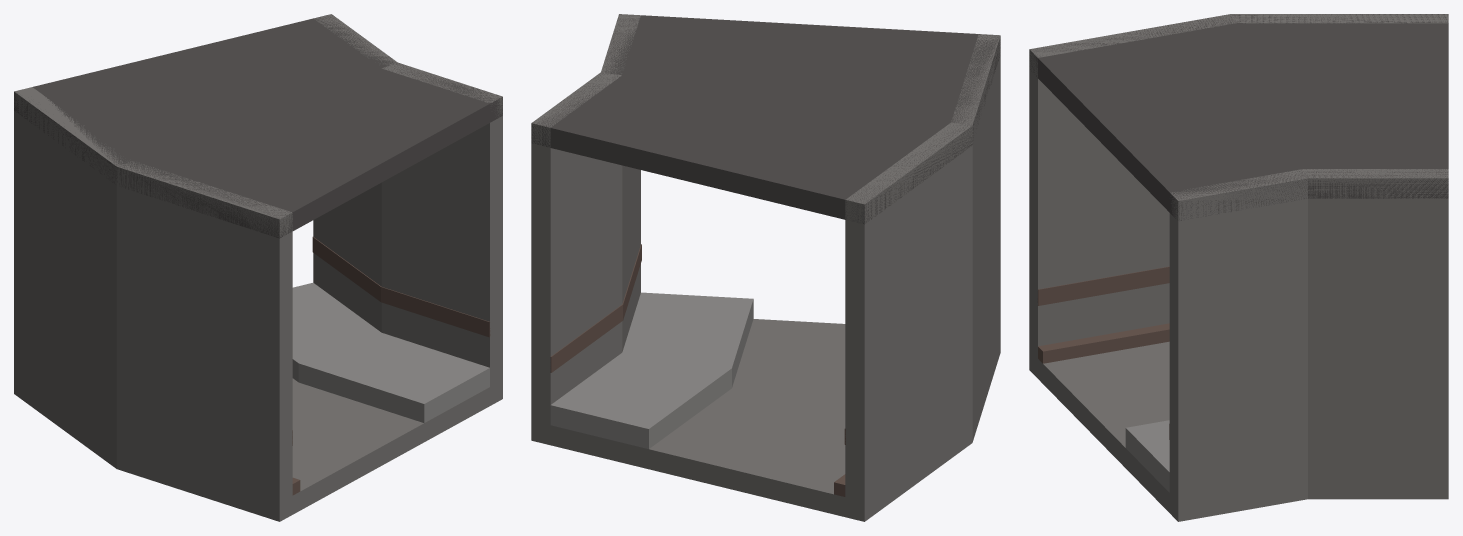
The model's file is B_culvert_bendP.glb.
3 views of the same model, side by side, from view 1: azimuth 30°, elevation 25°; view 2: azimuth 150°, elevation 25°; view 3: azimuth 270°, elevation 25° (orthographic). The views are drawn at different scales.
Parts seen in each view (by area): view 1: hexa.011, hexa.015, hexa.003, hexa.007, hexa.013, hexa.008, hexa.010, hexa.005, hexa.002, hexa, hexa.014, hexa.006; view 2: hexa.003, hexa.007, hexa.015, hexa.005, hexa, hexa.002, hexa.011, hexa.008, hexa.010, hexa.013, hexa.006; view 3: hexa.005, hexa.013, hexa.015, hexa.007, hexa.011, hexa.008, hexa, hexa.009, hexa.012, hexa.010, hexa.003.
Part boxes in pixels (bbox=[...]): hexa.011: bbox=[116, 161, 292, 520]; hexa.015: bbox=[116, 63, 502, 238]; hexa.003: bbox=[14, 87, 122, 468]; hexa.007: bbox=[14, 14, 396, 183]; hexa.013: bbox=[381, 62, 502, 401]; hexa.008: bbox=[116, 381, 502, 521]; hexa.010: bbox=[298, 332, 489, 422]; hexa.005: bbox=[313, 14, 397, 332]; hexa.002: bbox=[292, 282, 381, 381]; hexa: bbox=[14, 375, 298, 468]; hexa.014: bbox=[381, 286, 490, 337]; hexa.006: bbox=[312, 237, 381, 301]; hexa.003: bbox=[845, 122, 972, 520]; hexa.007: bbox=[531, 73, 972, 224]; hexa.015: bbox=[601, 14, 1000, 140]; hexa.005: bbox=[531, 72, 622, 442]; hexa: bbox=[531, 388, 972, 521]; hexa.002: bbox=[550, 352, 731, 448]; hexa.011: bbox=[951, 34, 1000, 438]; hexa.008: bbox=[732, 319, 1000, 441]; hexa.010: bbox=[622, 292, 753, 387]; hexa.013: bbox=[601, 14, 640, 351]; hexa.006: bbox=[550, 304, 622, 372]; hexa.005: bbox=[1304, 169, 1448, 499]; hexa.013: bbox=[1169, 169, 1307, 521]; hexa.015: bbox=[1029, 15, 1307, 220]; hexa.007: bbox=[1232, 14, 1448, 198]; hexa.011: bbox=[1029, 14, 1234, 374]; hexa.008: bbox=[1029, 341, 1307, 521]; hexa: bbox=[1308, 479, 1448, 499]; hexa.009: bbox=[1038, 323, 1169, 363]; hexa.012: bbox=[1037, 266, 1169, 305]; hexa.010: bbox=[1125, 420, 1169, 492]; hexa.003: bbox=[1231, 14, 1448, 23].
Size of the model in its own units: 9.88 by 7.9 by 9.36.
